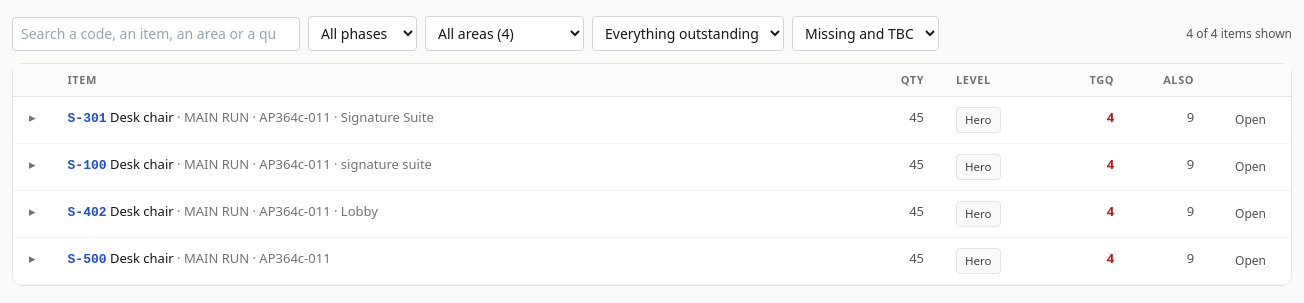
InfillTable › AN AREA FILTER NARROWS WHAT IS LISTED AND CHANGES NO COUNT
Select "Signature Suite (2)" in the dropdown named "Filter by area" at point(504, 34), box [425, 16, 584, 51]
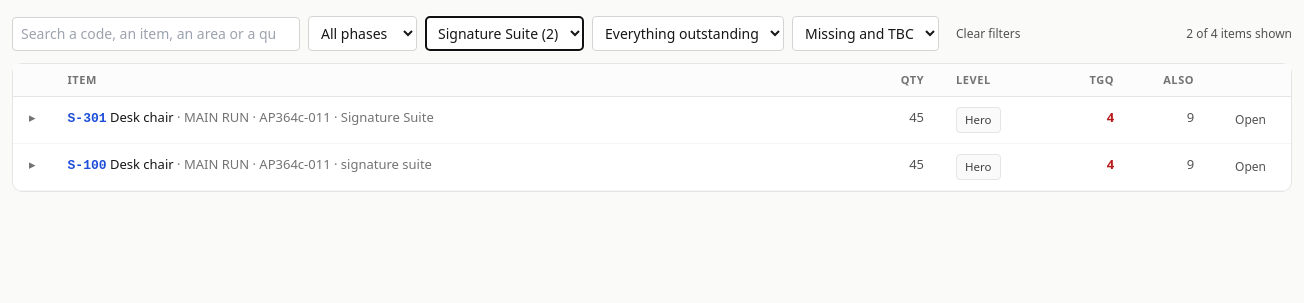
Expected: the link "S-301" is shown, [68, 111, 106, 126]
Expected: the link "S-402" is gone
Expected: the text "2 of 4 items shown" is shown, [1186, 26, 1292, 42]
